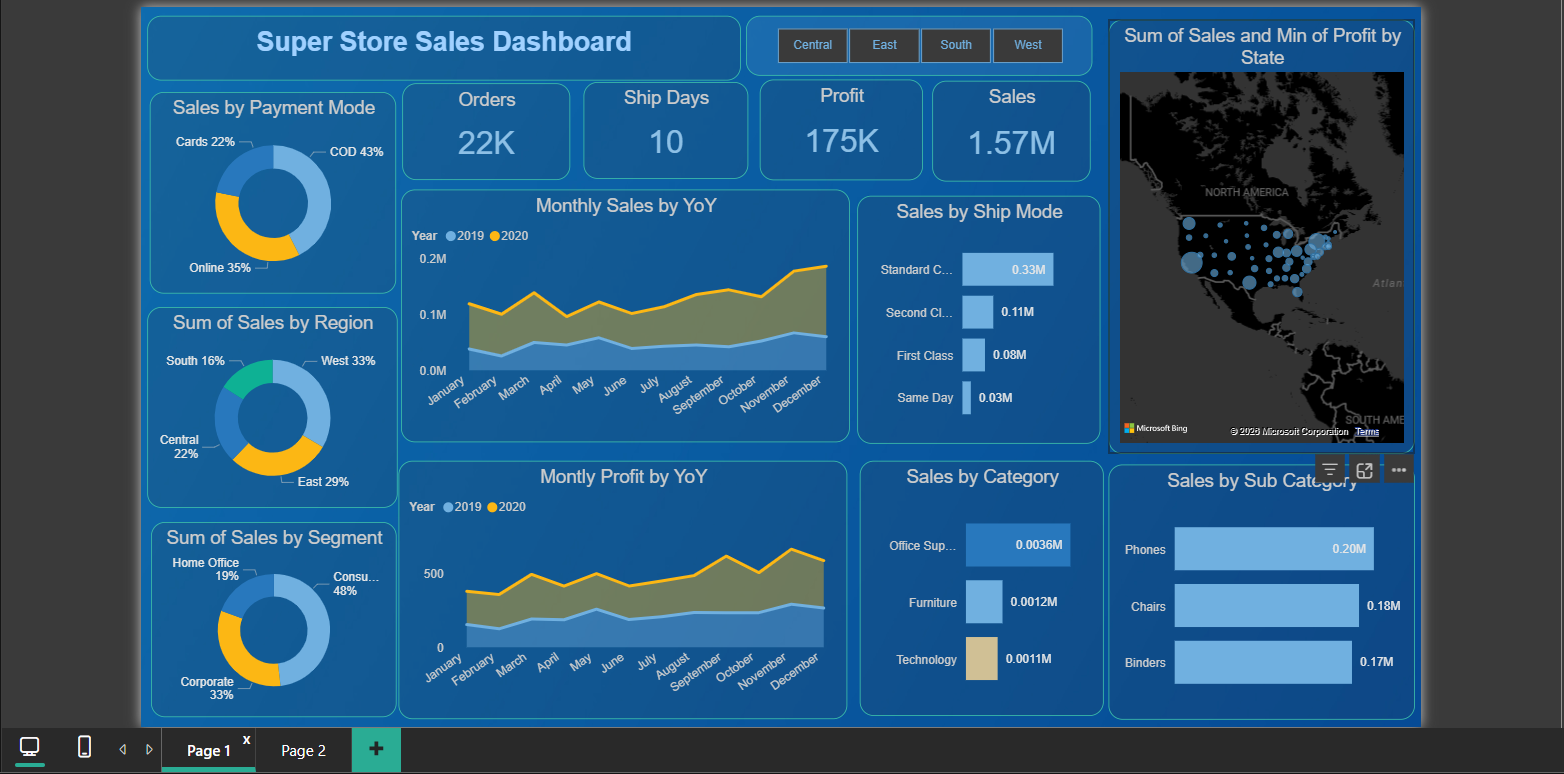

This screenshot's page, from the dashboard's own definition file:
{"tool":"powerbi","page":{"name":"Page 1","canvas":[1280,720],"ordinal":0},"visuals":[{"type":"clusteredBarChart","title":"Sales by Category","fields":{"Category":["SuperStore_Sales_Dataset.Category"],"Y":["CountNonNull(SuperStore_Sales_Dataset.Sales)"]},"box":[718.8,453.7,244.2,255.2],"z":0},{"type":"clusteredBarChart","title":"Sales by Sub Category","fields":{"Category":["SuperStore_Sales_Dataset.Sub-Category"],"Y":["Sum(SuperStore_Sales_Dataset.Sales)"]},"box":[966.9,457.7,306.8,255.2],"z":1000},{"type":"clusteredBarChart","title":"Sales by Ship Mode","fields":{"Y":["Sum(SuperStore_Sales_Dataset.Sales)"],"Category":["SuperStore_Sales_Dataset.Ship Mode"]},"box":[716.1,189,242.9,247.9],"z":2000},{"type":"stackedAreaChart","title":"Monthly Sales by YoY","fields":{"Y":["Sum(SuperStore_Sales_Dataset.Sales)"],"Category":["SuperStore_Sales_Dataset.Order Date.Variation.Date Hierarchy.Month","SuperStore_Sales_Dataset.Order Date.Variation.Date Hierarchy.Day"],"Series":["SuperStore_Sales_Dataset.Order Date.Variation.Date Hierarchy.Year"]},"box":[260.1,182.8,449.1,252.5],"z":3000},{"type":"stackedAreaChart","title":"Montly Profit by YoY","fields":{"Category":["SuperStore_Sales_Dataset.Order Date.Variation.Date Hierarchy.Month","SuperStore_Sales_Dataset.Order Date.Variation.Date Hierarchy.Day"],"Series":["SuperStore_Sales_Dataset.Order Date.Variation.Date Hierarchy.Year"],"Y":["CountNonNull(SuperStore_Sales_Dataset.Profit)"]},"box":[257.7,453.3,449.1,258.4],"z":4000},{"type":"map","fields":{"Category":["SuperStore_Sales_Dataset.State"],"Size":["Sum(SuperStore_Sales_Dataset.Sales)"]},"box":[966.9,12.3,306.8,434.4],"z":5000},{"type":"donutChart","fields":{"Y":["Sum(SuperStore_Sales_Dataset.Sales)"],"Category":["SuperStore_Sales_Dataset.Segment"]},"box":[9.8,515.3,245.4,195.1],"z":6000},{"type":"donutChart","title":"Sales by Payment Mode","fields":{"Y":["Sum(SuperStore_Sales_Dataset.Sales)"],"Category":["SuperStore_Sales_Dataset.Payment Mode"]},"box":[8.6,84.4,246.6,201.2],"z":7000},{"type":"slicer","fields":{"Values":["SuperStore_Sales_Dataset.Region"]},"box":[605.4,8.6,346.8,60.1],"z":8000},{"type":"textbox","box":[6.1,8.6,593.9,65],"z":9000},{"type":"card","title":"Sales","fields":{"Values":["Sum(SuperStore_Sales_Dataset.Sales)"]},"box":[790.7,74.1,158.3,100.6],"z":10000},{"type":"card","title":"Orders","fields":{"Values":["Sum(SuperStore_Sales_Dataset.Quantity)"]},"box":[261.4,76.1,168.1,96.7],"z":11000},{"type":"card","title":"Profit","fields":{"Values":["Sum(SuperStore_Sales_Dataset.Profit)"]},"box":[618.2,72.6,163.2,100.6],"z":12000},{"type":"card","title":"Ship Days","fields":{"Values":["Avg(SuperStore_Sales_Dataset.AvgDelivery)"]},"box":[442.2,74.8,164.4,96.9],"z":13000},{"type":"donutChart","fields":{"Y":["Sum(SuperStore_Sales_Dataset.Sales)"],"Category":["SuperStore_Sales_Dataset.Region"]},"box":[6.1,299.4,250.3,200.5],"z":14000}]}

Visuals, with their boxes on the page's 1280x720 design canvas (x1, y1, x2, y2). These are canvas units, not pixel positions in the 1564x774 screenshot, which may show the page scaled, cropped or inside an application window:
"Sales by Category" clusteredBarChart: [719,454,963,709]
"Sales by Sub Category" clusteredBarChart: [967,458,1274,713]
"Sales by Ship Mode" clusteredBarChart: [716,189,959,437]
"Monthly Sales by YoY" stackedAreaChart: [260,183,709,435]
"Montly Profit by YoY" stackedAreaChart: [258,453,707,712]
map - SuperStore_Sales_Dataset.State x Sum(SuperStore_Sales_Dataset.Sales): [967,12,1274,447]
donutChart - Sum(SuperStore_Sales_Dataset.Sales) x SuperStore_Sales_Dataset.Segment: [10,515,255,710]
"Sales by Payment Mode" donutChart: [9,84,255,286]
slicer - SuperStore_Sales_Dataset.Region: [605,9,952,69]
textbox: [6,9,600,74]
"Sales" card: [791,74,949,175]
"Orders" card: [261,76,430,173]
"Profit" card: [618,73,781,173]
"Ship Days" card: [442,75,607,172]
donutChart - Sum(SuperStore_Sales_Dataset.Sales) x SuperStore_Sales_Dataset.Region: [6,299,256,500]
